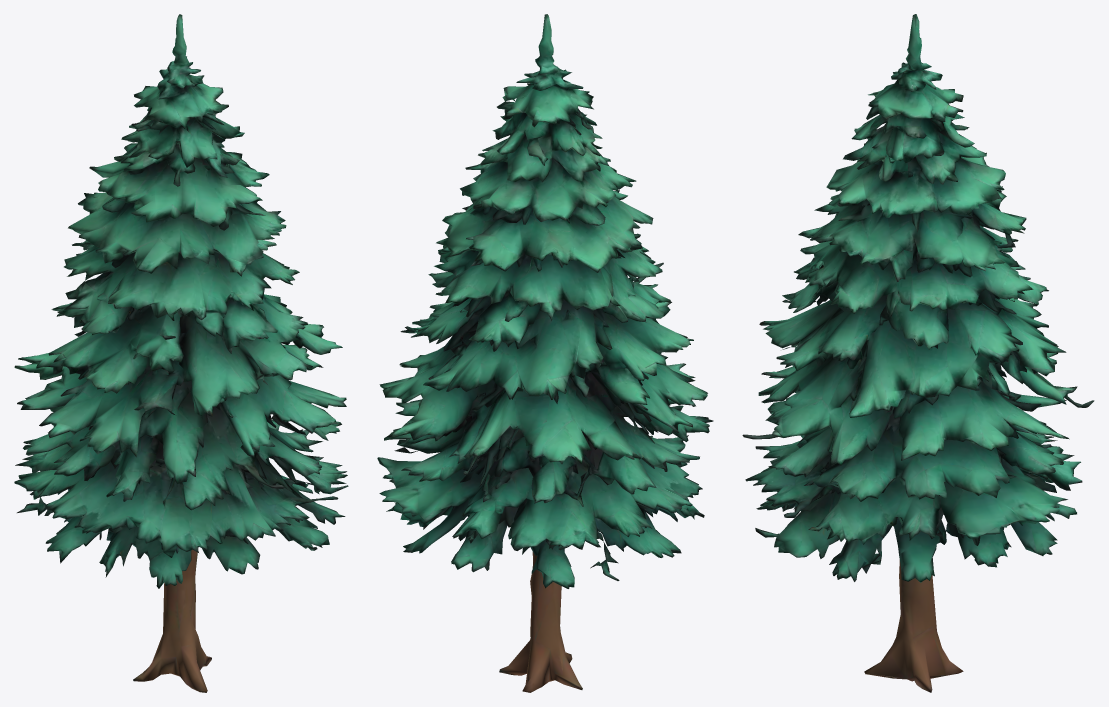
File: pine-conifer.glb
3 renders of one model, left to right at view 1: azimuth 30°, elevation 25°; view 2: azimuth 150°, elevation 25°; view 3: azimuth 270°, elevation 25°, orthographic.
Size of the model in its own units: 0.884 by 2 by 0.9683.
1 material, 1 textured.
